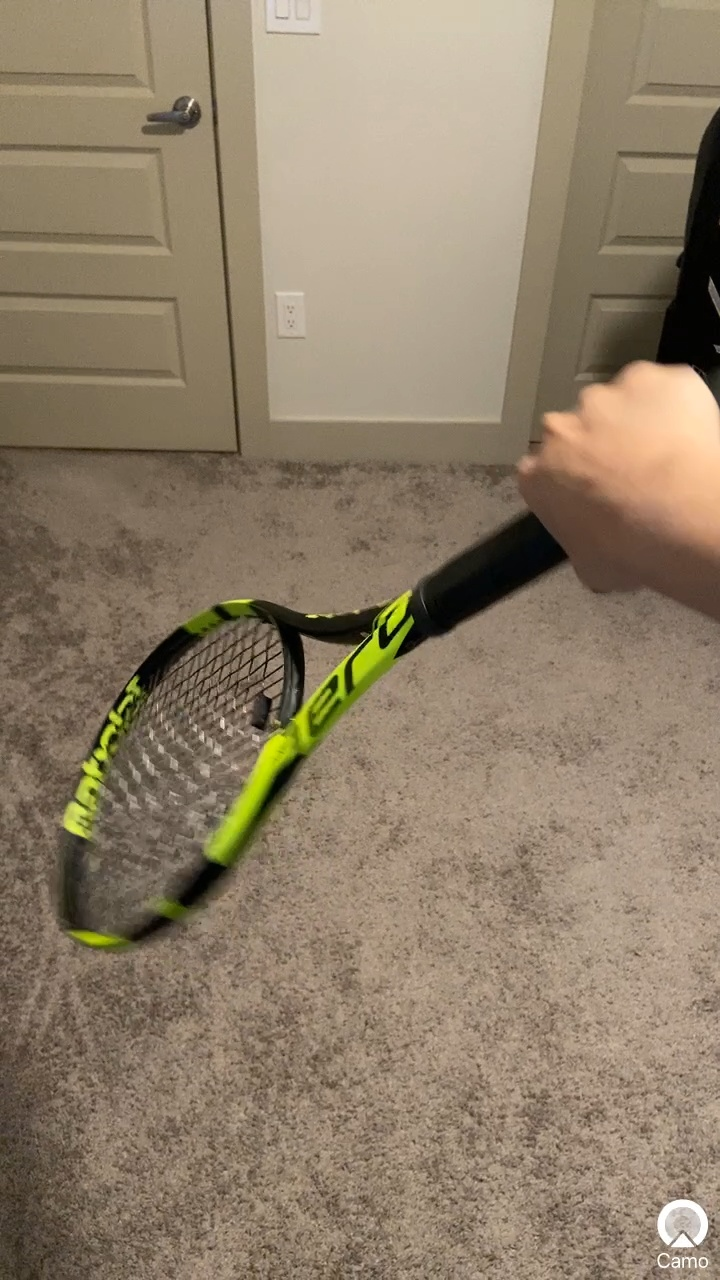Tennis_Racquet: (38, 360, 698, 985)
